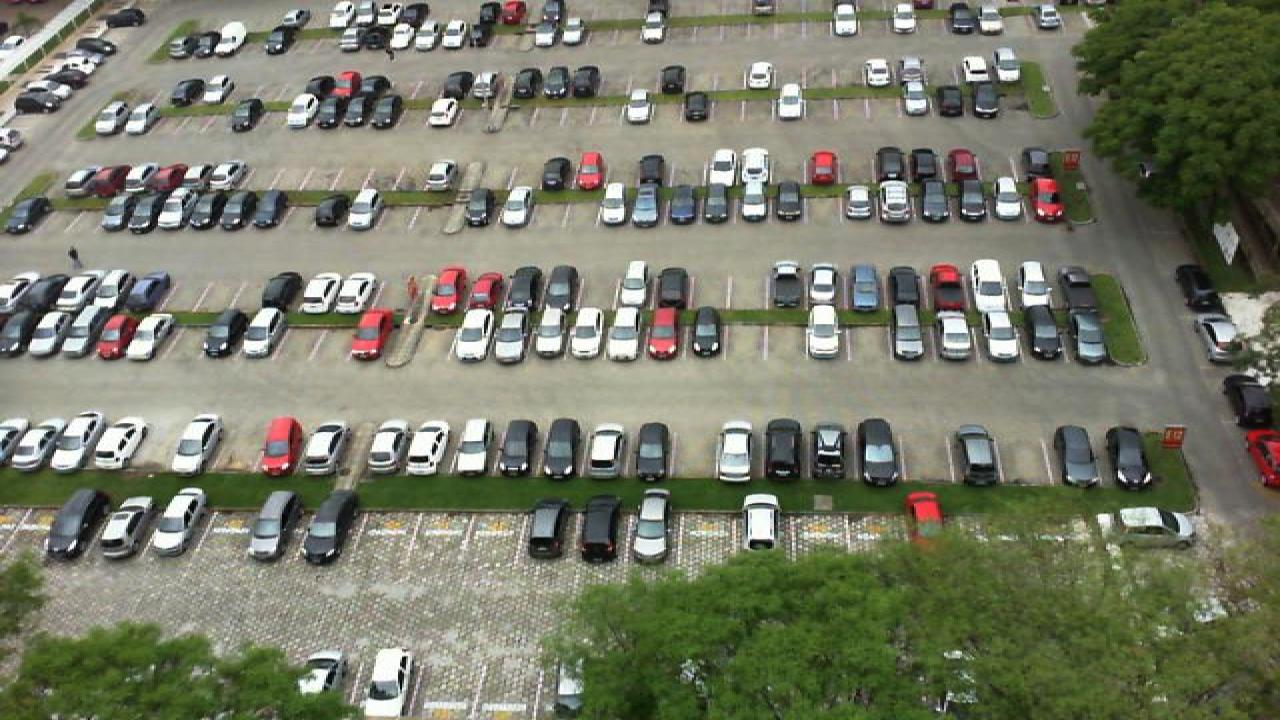Car: (298, 488, 362, 566), (1092, 506, 1198, 549), (242, 487, 302, 560), (148, 486, 208, 555), (362, 649, 418, 719), (48, 488, 104, 557), (98, 494, 154, 558), (854, 417, 904, 485), (628, 487, 674, 560), (1104, 426, 1156, 490), (1054, 424, 1106, 487), (46, 411, 102, 469), (88, 416, 148, 469), (1222, 374, 1278, 430), (168, 417, 224, 472), (954, 424, 1002, 486), (578, 495, 620, 563), (526, 500, 574, 559), (1176, 263, 1232, 313), (258, 416, 304, 476), (496, 418, 542, 478), (300, 422, 350, 477), (364, 420, 412, 477), (10, 417, 62, 469), (716, 420, 758, 484), (408, 419, 454, 477), (764, 419, 806, 482), (542, 419, 584, 481), (1196, 314, 1248, 364), (1024, 305, 1068, 364), (450, 308, 498, 362), (740, 493, 784, 551), (452, 417, 494, 477), (980, 305, 1024, 362), (586, 424, 628, 483), (1068, 306, 1112, 361), (632, 423, 672, 483), (808, 424, 848, 484), (348, 310, 394, 362), (290, 656, 346, 698), (804, 305, 846, 360), (128, 310, 174, 360), (240, 308, 284, 360), (554, 659, 592, 719), (968, 258, 1010, 312), (492, 307, 532, 363), (606, 305, 644, 362), (688, 306, 728, 360), (934, 307, 974, 361), (928, 263, 972, 312), (204, 308, 246, 359), (906, 492, 950, 540), (1246, 428, 1280, 490), (530, 307, 568, 362), (646, 306, 684, 361), (888, 305, 926, 360), (20, 308, 60, 360), (1010, 264, 1052, 313), (568, 307, 606, 360), (890, 263, 930, 313), (6, 195, 54, 236), (848, 262, 886, 313), (768, 261, 808, 308), (620, 260, 656, 312), (92, 314, 132, 360), (430, 266, 470, 312), (506, 268, 546, 314), (56, 308, 94, 356), (94, 269, 134, 314), (304, 270, 344, 315), (336, 271, 376, 316), (808, 262, 844, 312), (14, 82, 70, 114), (128, 271, 170, 313), (262, 271, 304, 313), (548, 264, 584, 313), (58, 269, 98, 313), (1056, 268, 1096, 312), (878, 178, 916, 224), (988, 175, 1026, 221), (1030, 176, 1066, 224), (22, 271, 64, 312), (630, 181, 668, 226), (656, 266, 692, 312), (594, 181, 630, 227), (1018, 146, 1058, 187), (346, 187, 382, 232), (98, 191, 134, 235), (498, 184, 534, 228), (460, 186, 496, 229), (702, 181, 738, 224), (666, 182, 702, 224), (842, 181, 878, 223), (128, 191, 162, 235), (916, 178, 950, 222), (952, 178, 986, 222), (470, 272, 506, 313), (574, 151, 610, 192), (158, 191, 192, 234), (738, 180, 772, 223), (736, 146, 770, 189), (632, 153, 670, 191), (250, 190, 286, 230), (422, 158, 462, 194), (874, 145, 910, 185), (218, 190, 252, 232), (772, 178, 804, 222), (306, 190, 344, 227), (40, 66, 90, 94), (0, 310, 30, 356), (540, 156, 576, 194), (702, 151, 738, 189), (0, 419, 30, 464), (806, 150, 842, 187), (190, 190, 222, 231), (58, 50, 104, 78), (94, 163, 130, 198), (154, 162, 190, 197), (230, 98, 266, 133), (908, 148, 942, 185), (946, 148, 980, 185), (620, 88, 654, 125), (70, 42, 122, 66), (286, 94, 320, 130), (108, 104, 142, 140), (948, 0, 982, 36), (62, 164, 98, 197), (860, 57, 896, 90), (774, 84, 806, 121), (426, 96, 462, 128), (900, 81, 932, 117), (968, 82, 1000, 118), (1002, 81, 1034, 117), (958, 53, 994, 85), (316, 94, 346, 132), (216, 21, 250, 54), (934, 82, 966, 117), (636, 9, 668, 44), (168, 80, 204, 111), (830, 0, 860, 37), (184, 162, 218, 194), (214, 160, 246, 194), (374, 94, 404, 130), (126, 163, 158, 196), (200, 75, 232, 108), (896, 54, 928, 87), (742, 61, 776, 92), (498, 91, 528, 126), (994, 46, 1024, 81), (330, 70, 362, 102), (346, 94, 376, 128), (682, 90, 712, 124), (360, 72, 394, 102), (570, 65, 600, 99), (0, 274, 28, 310), (302, 74, 334, 105), (982, 0, 1010, 35), (444, 71, 476, 101), (482, 69, 512, 101), (1032, 0, 1064, 30), (558, 14, 586, 48), (512, 69, 542, 100), (194, 29, 224, 60), (464, 20, 494, 51), (542, 65, 570, 98), (892, 0, 918, 35), (166, 33, 202, 58), (340, 24, 370, 54), (414, 22, 446, 50), (530, 15, 558, 47), (366, 25, 396, 54), (442, 22, 470, 53), (266, 28, 294, 56), (390, 26, 418, 54)
